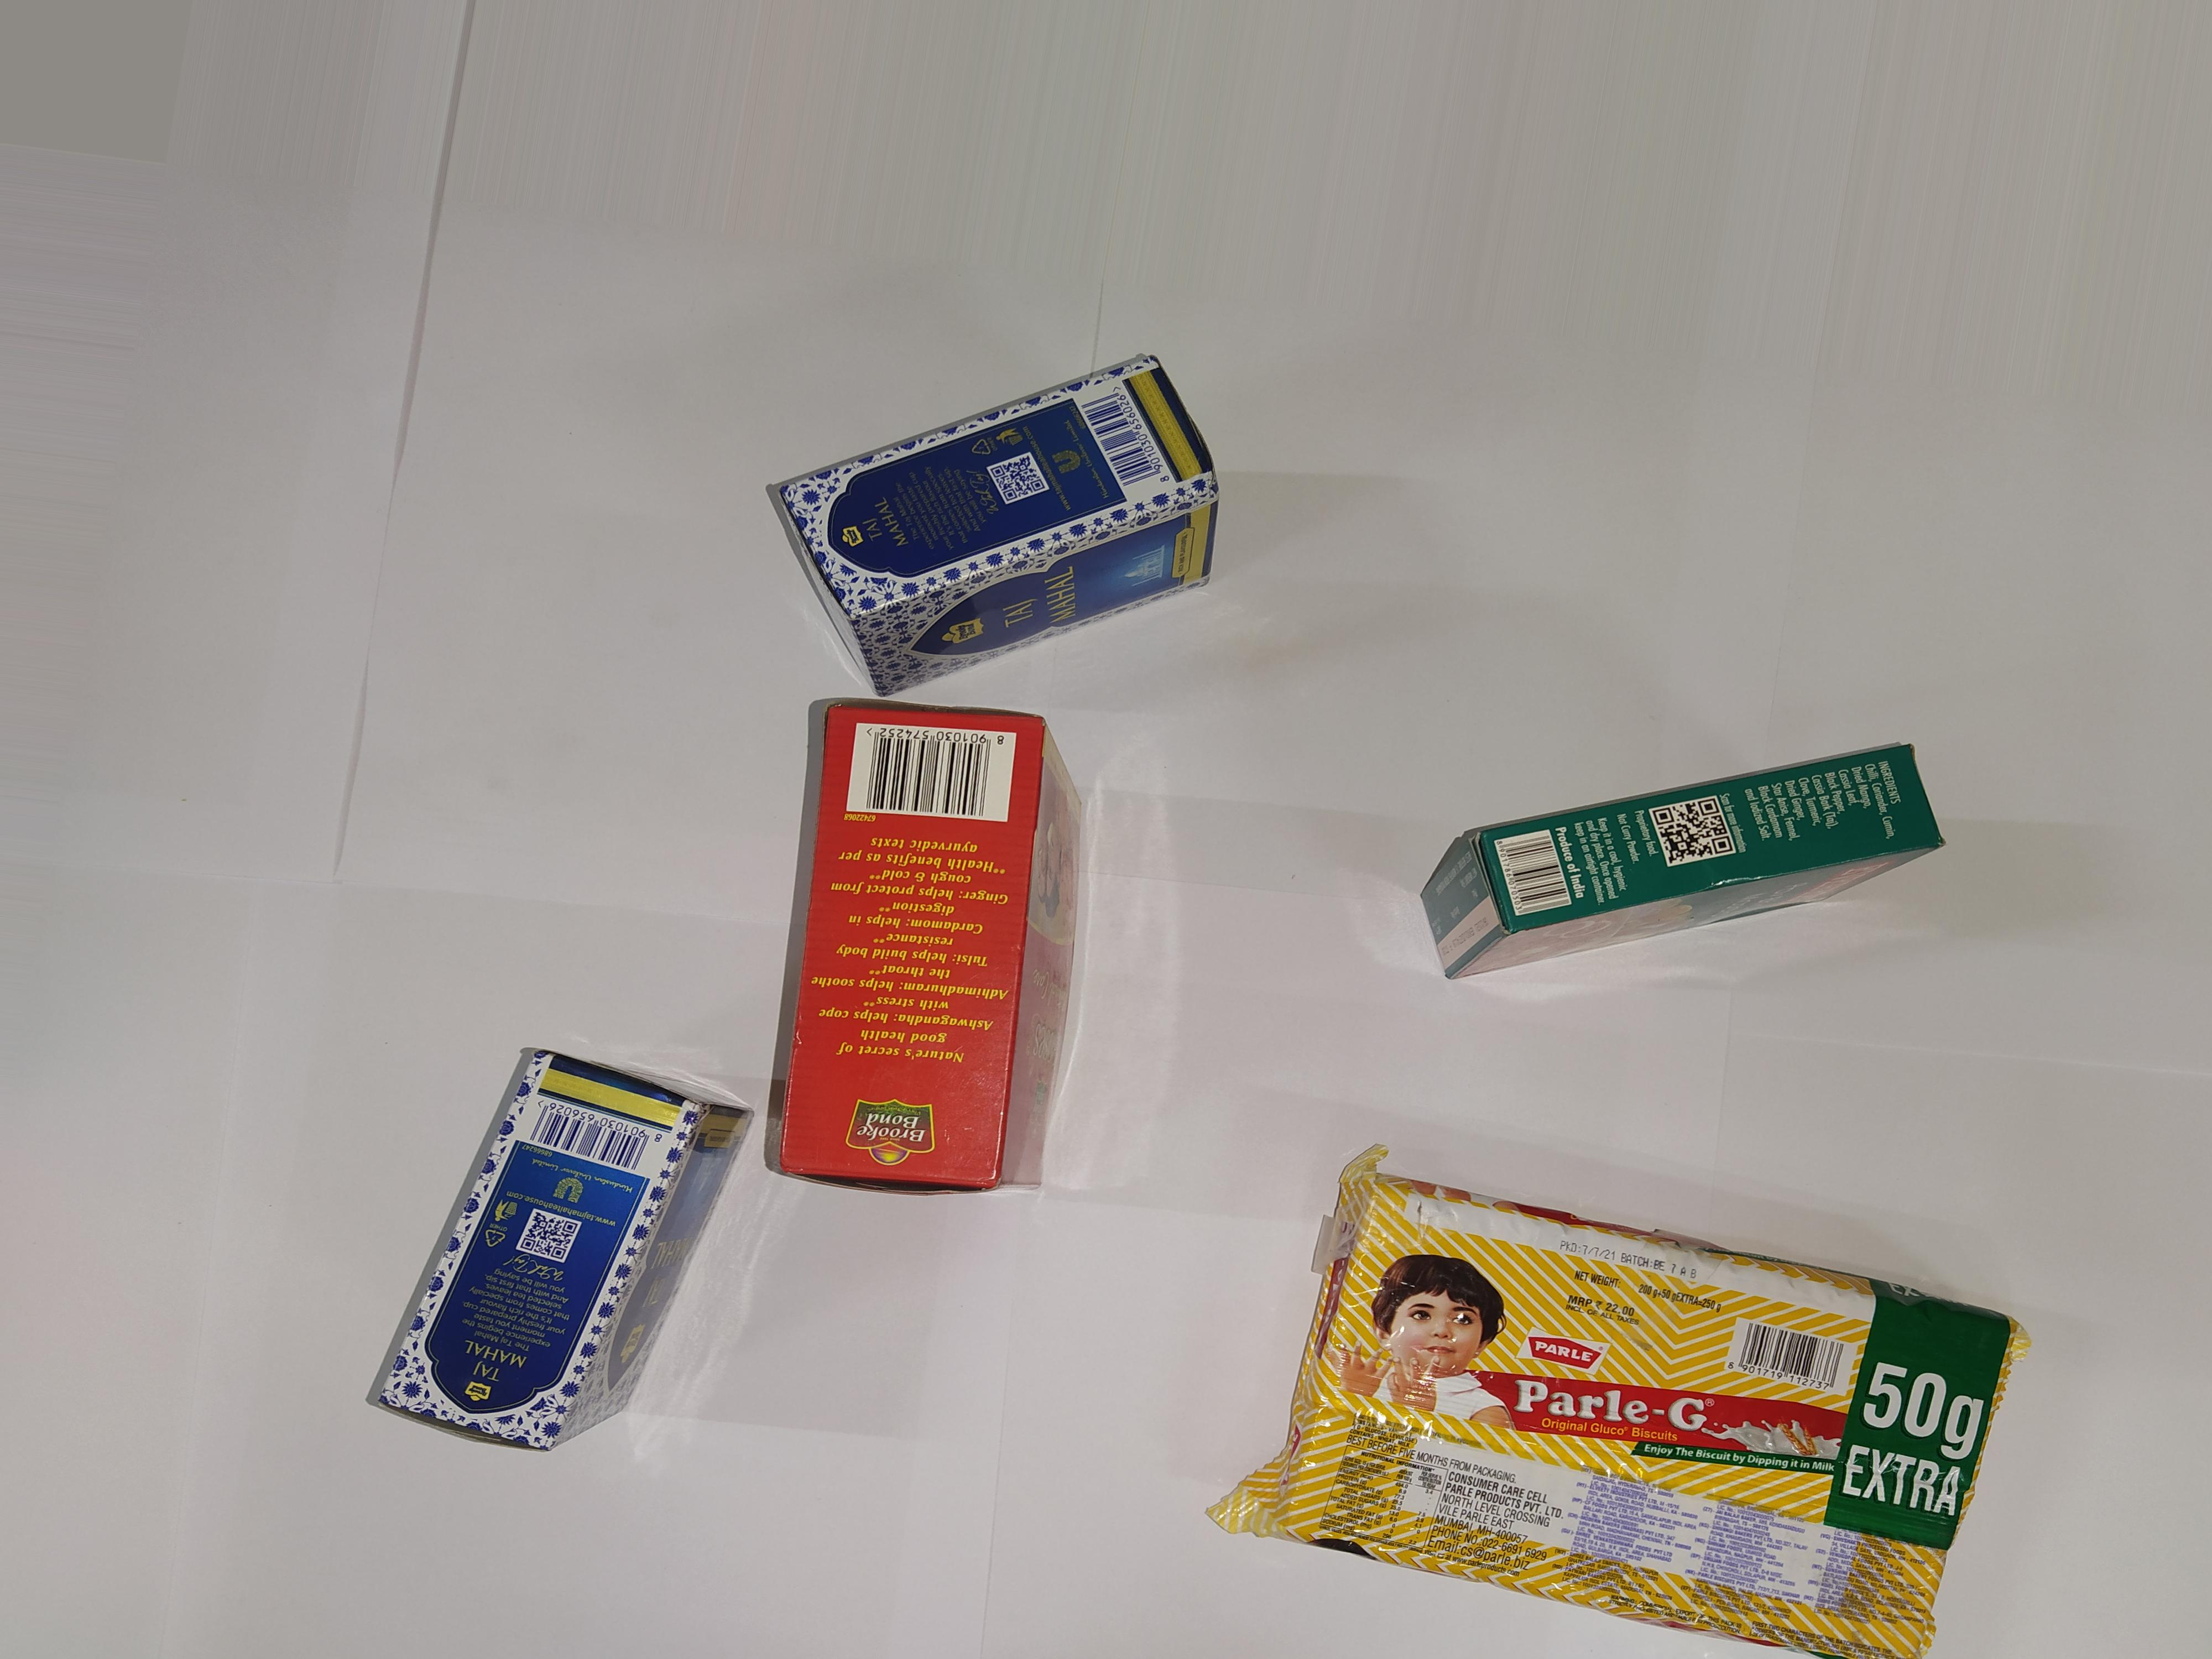Bar_code: (827, 709, 1031, 830), (507, 1089, 674, 1187), (1463, 809, 1590, 927), (1062, 376, 1176, 504), (1719, 1314, 1864, 1406), (519, 1206, 592, 1279)
Item: (1193, 1115, 2120, 1659), (338, 1012, 756, 1497), (711, 343, 1261, 690), (766, 662, 1075, 1251), (1414, 709, 1966, 1000)
QR_code: (1649, 798, 1749, 864), (989, 457, 1069, 511)
